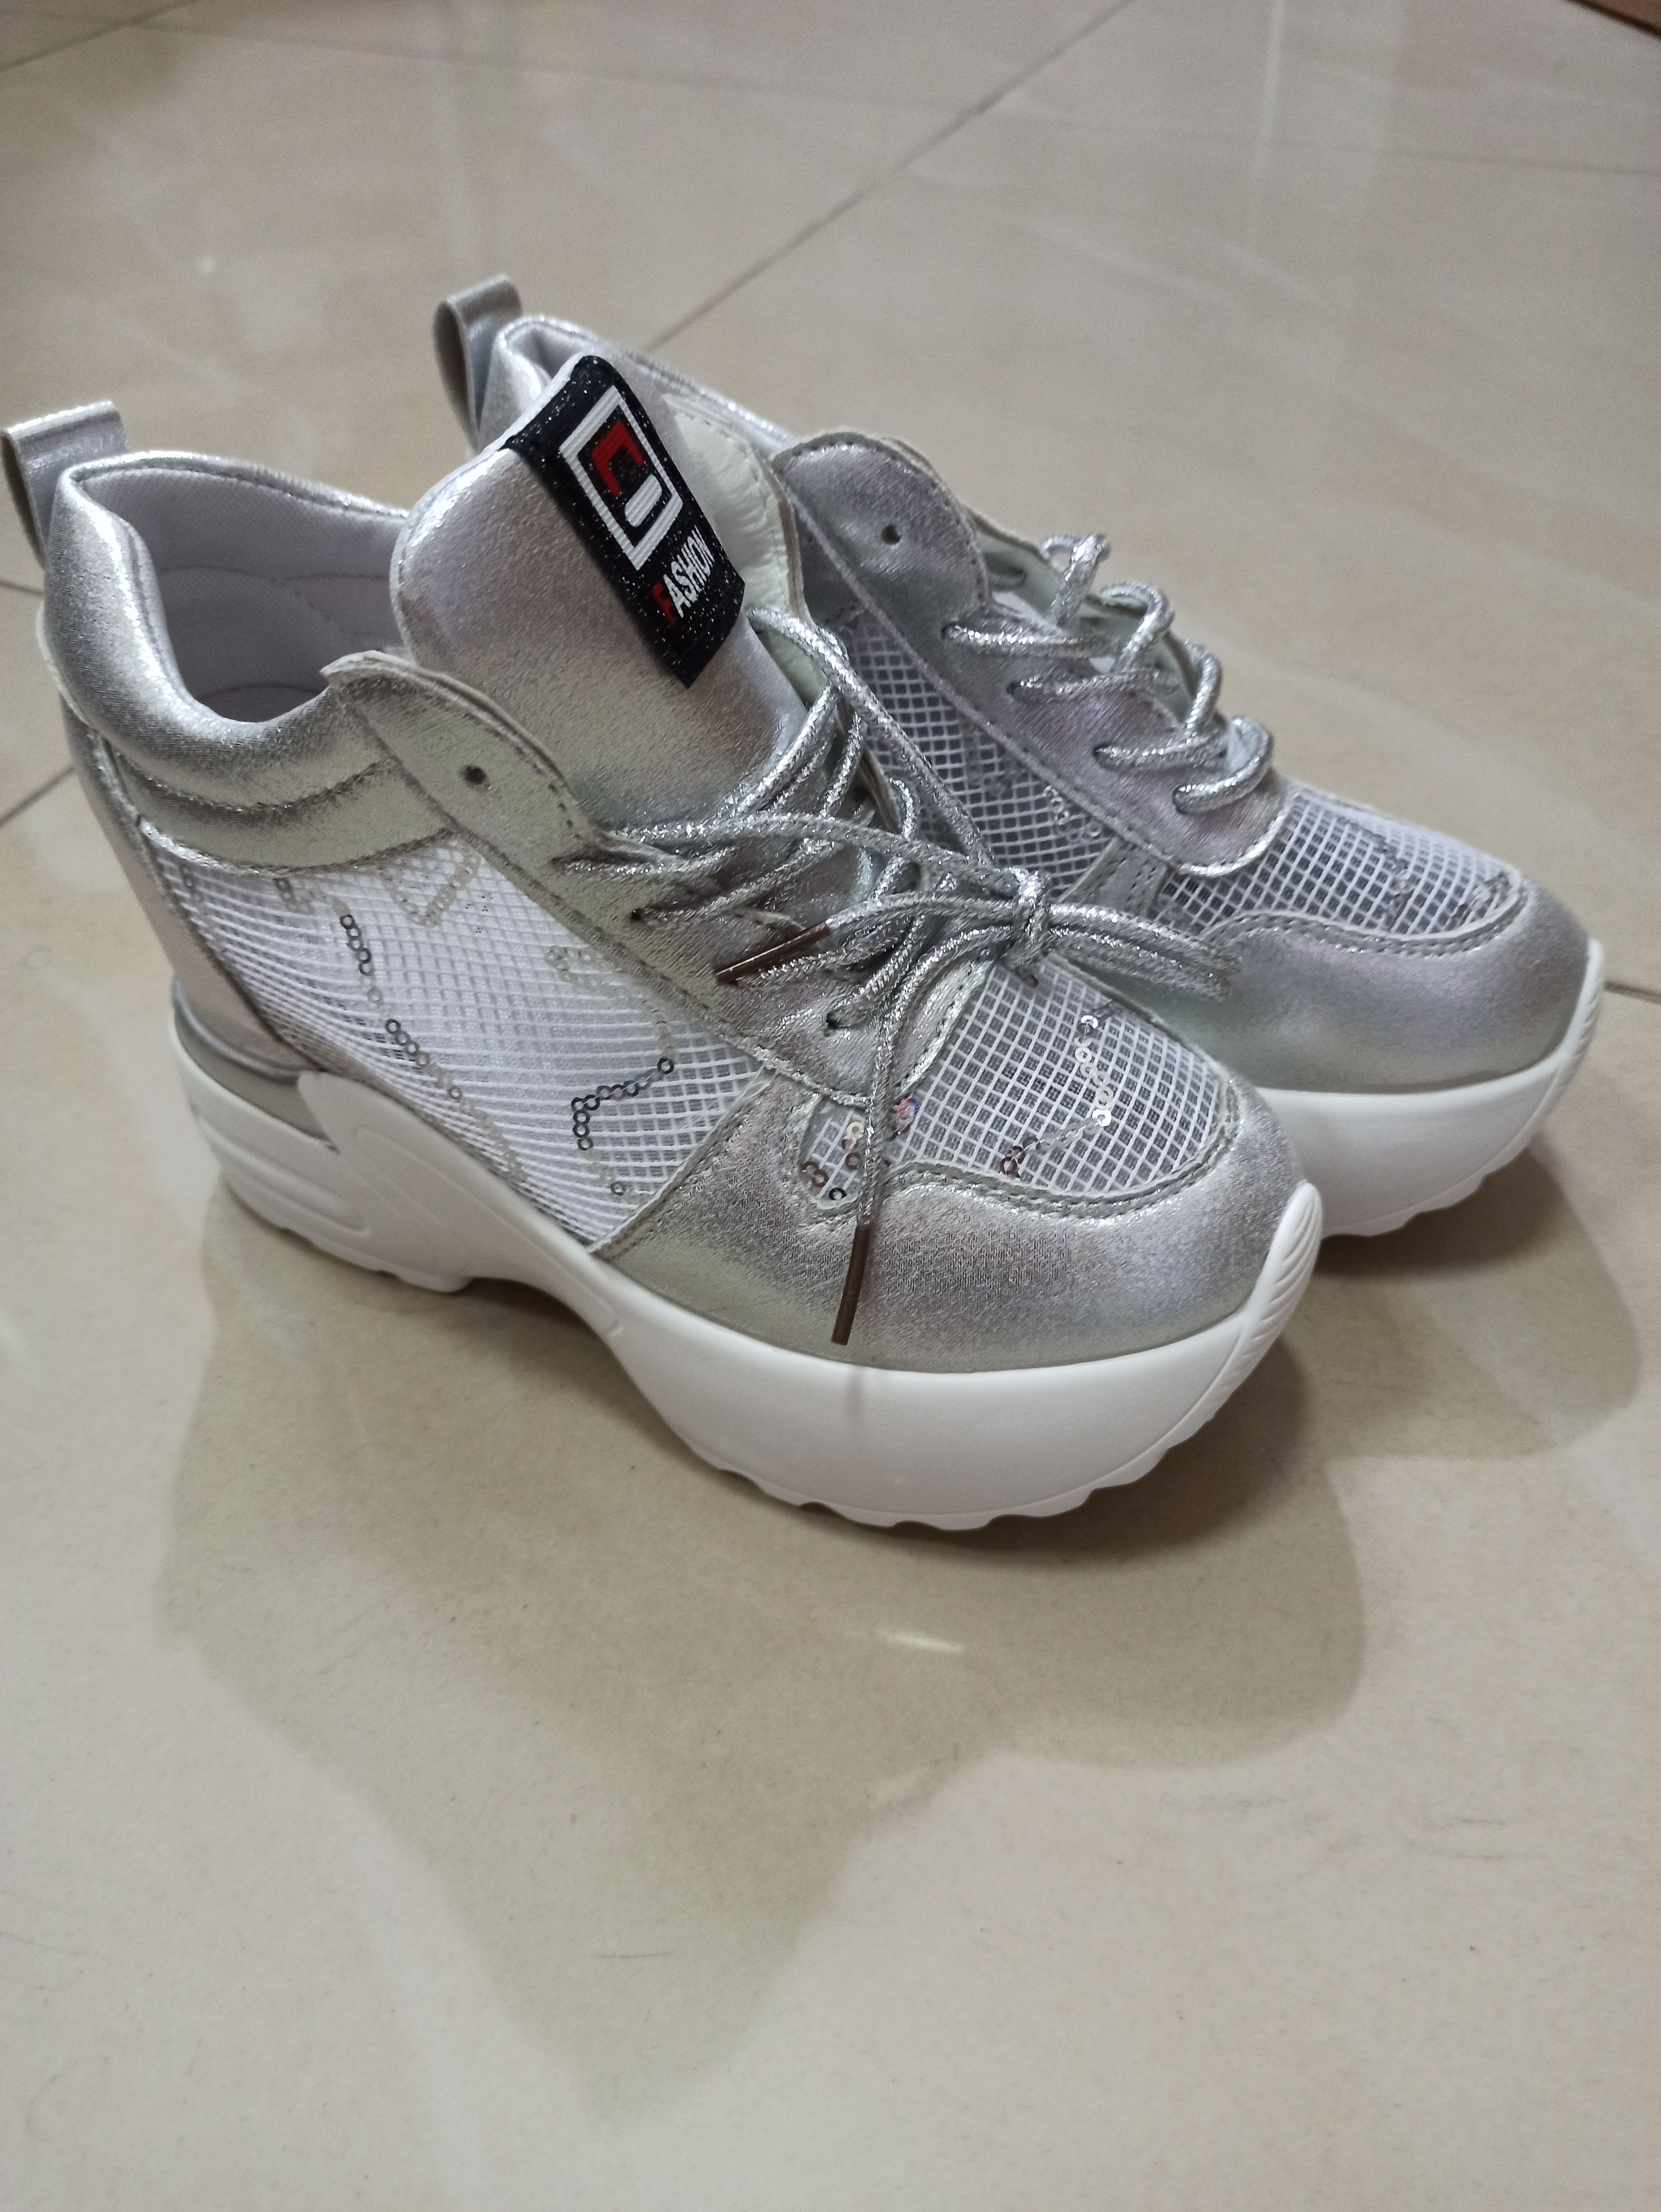clothes: (14, 286, 1602, 1525)
